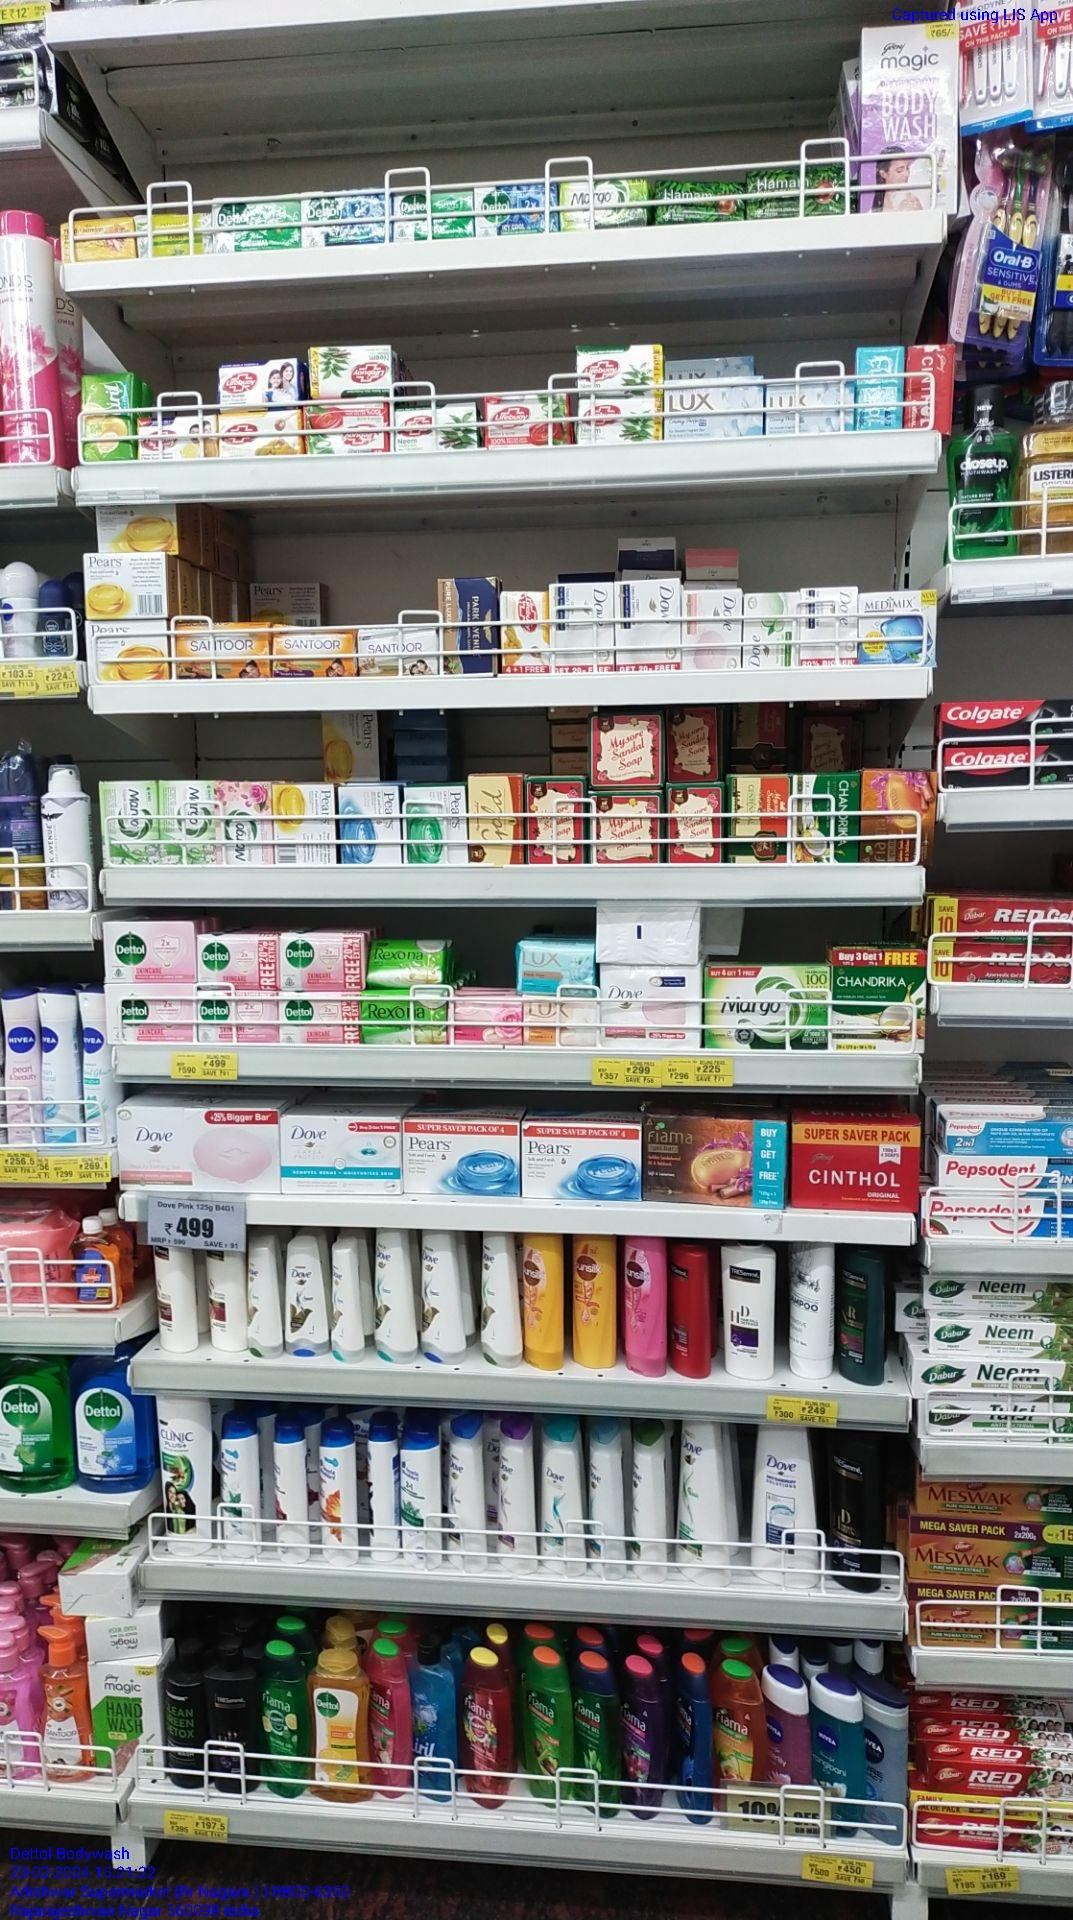Dettol_Bodywash_Refresh: (308, 1654, 368, 1801)
Fiama_Shower_Gel_Lemongrass_and_Jojoba_250ML: (519, 1650, 572, 1811)
